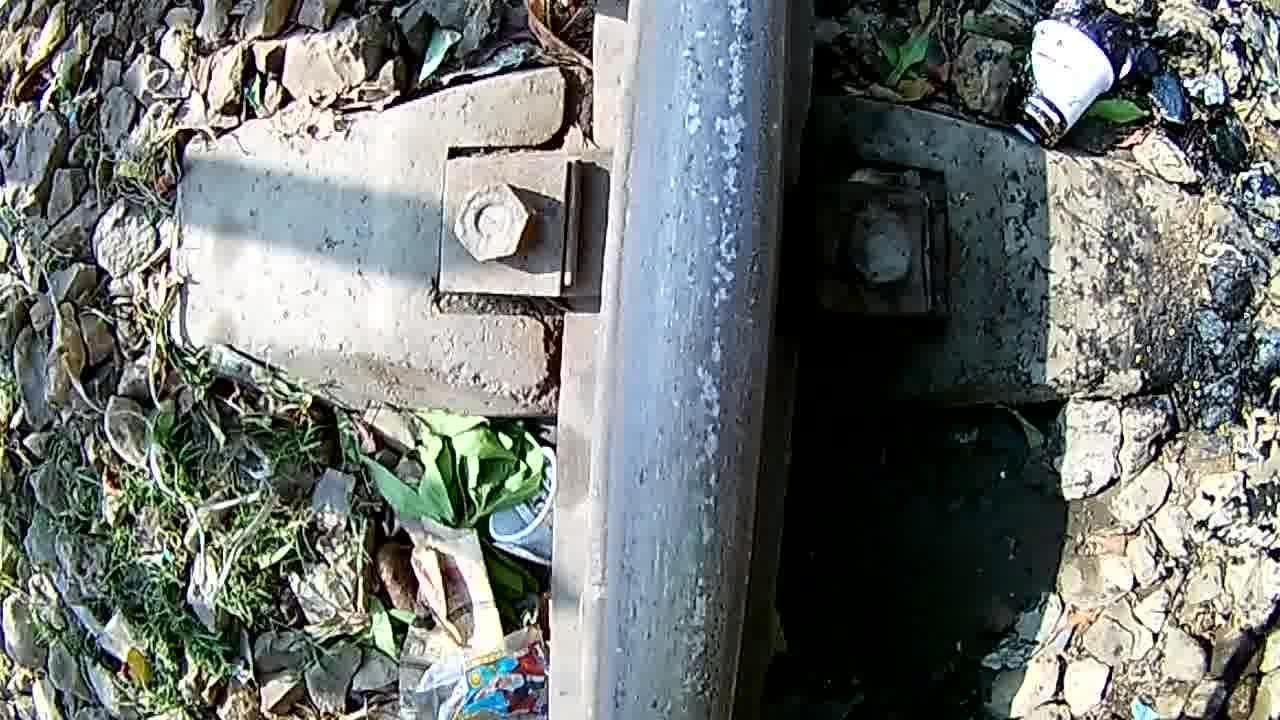crack: (584, 2, 799, 720)
